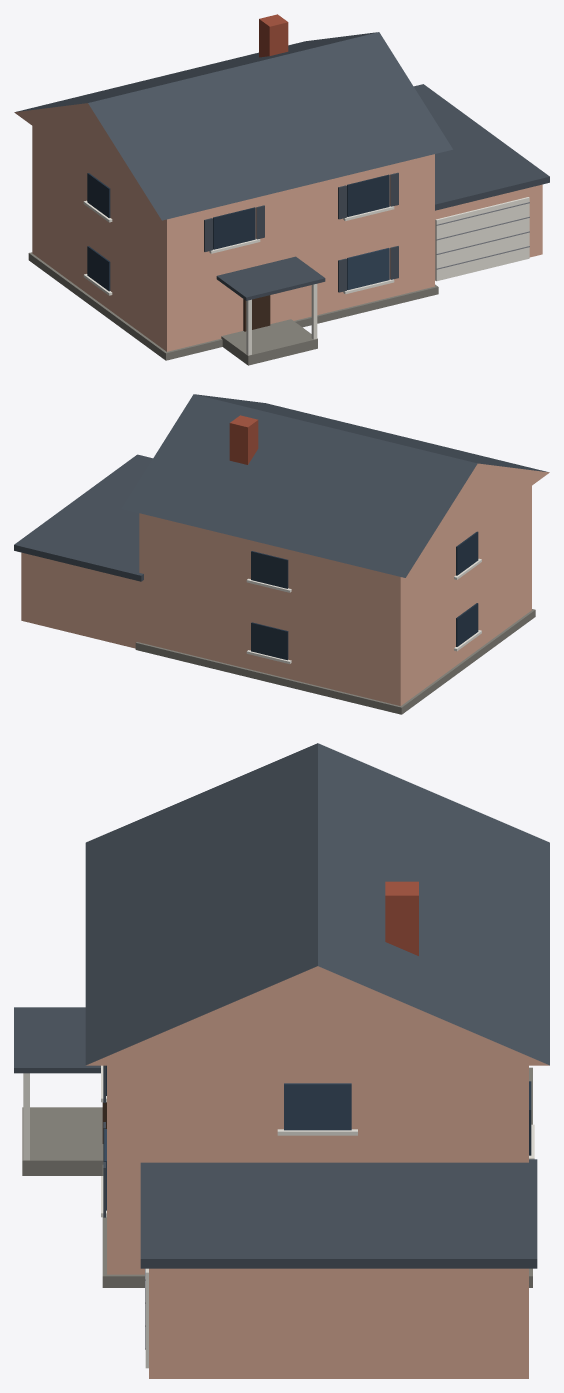
The model's file is house_b.glb.
3 renders of one model, top to bottom at view 1: azimuth 30°, elevation 25°; view 2: azimuth 150°, elevation 25°; view 3: azimuth 270°, elevation 25°, orthographic. The views are drawn at different scales.
Parts seen in each view (by area): view 1: house_b; view 2: house_b; view 3: house_b.
Boxes of the visible parts, x1,y1,x2,y2 form: house_b: [14, 14, 549, 365]; house_b: [14, 394, 549, 714]; house_b: [14, 743, 549, 1378].
Size of what is drawn, in the model's own units: 17.4 by 9.05 by 12.7.
